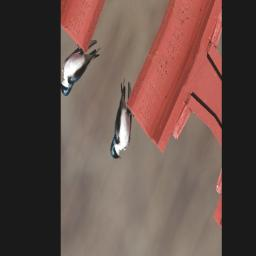Swallow: (98, 75, 146, 168)
